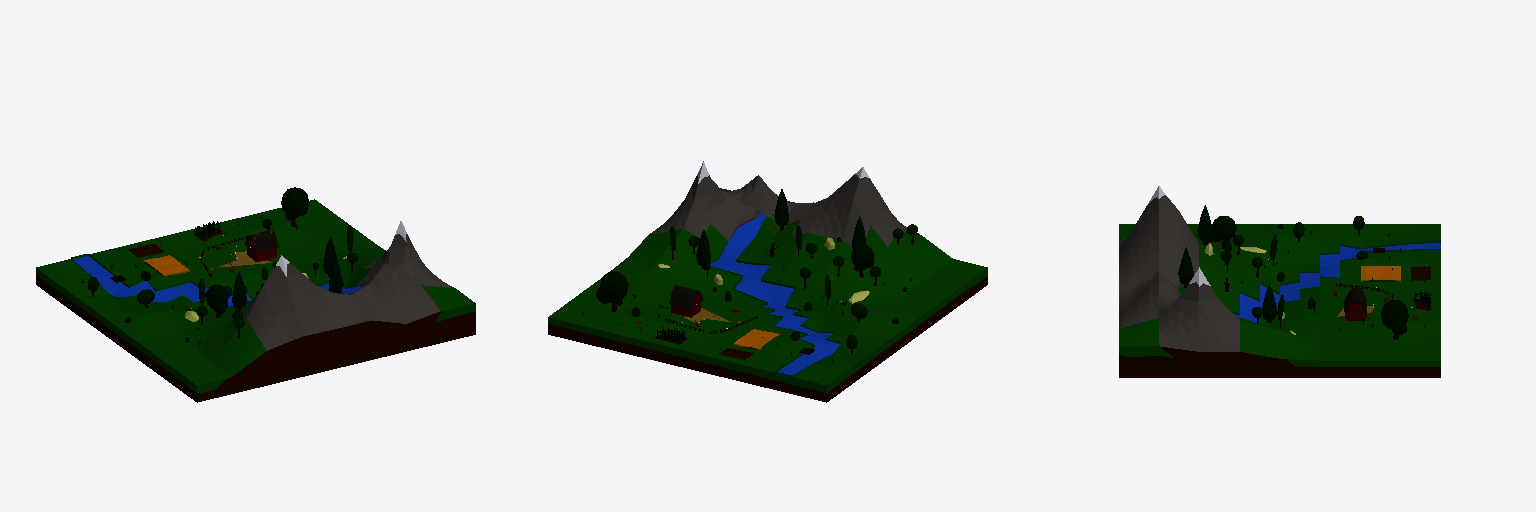
File: landskapefarmlowpoly.obj
The picture shows the model from 3 angles: view 1: azimuth 30°, elevation 25°; view 2: azimuth 150°, elevation 25°; view 3: azimuth 270°, elevation 25°; orthographic projection.
Visible parts, largest first — view 1: Plane, Cube.001_Cube.003, Icosphere.010_Icosphere.015; view 2: Plane, Cube.001_Cube.003, Icosphere.010_Icosphere.015; view 3: Plane, Icosphere.010_Icosphere.015, Cube.001_Cube.003.
Part boxes in pixels (x1,y1,x2,y2): Plane: (36, 199, 475, 402); Cube.001_Cube.003: (245, 229, 278, 261); Icosphere.010_Icosphere.015: (281, 187, 308, 220); Plane: (548, 161, 987, 402); Cube.001_Cube.003: (669, 285, 703, 317); Icosphere.010_Icosphere.015: (596, 271, 628, 305); Plane: (1119, 186, 1440, 377); Icosphere.010_Icosphere.015: (1381, 300, 1408, 334); Cube.001_Cube.003: (1344, 286, 1366, 320).
Size of the model in its own units: 213 by 78.44 by 213.